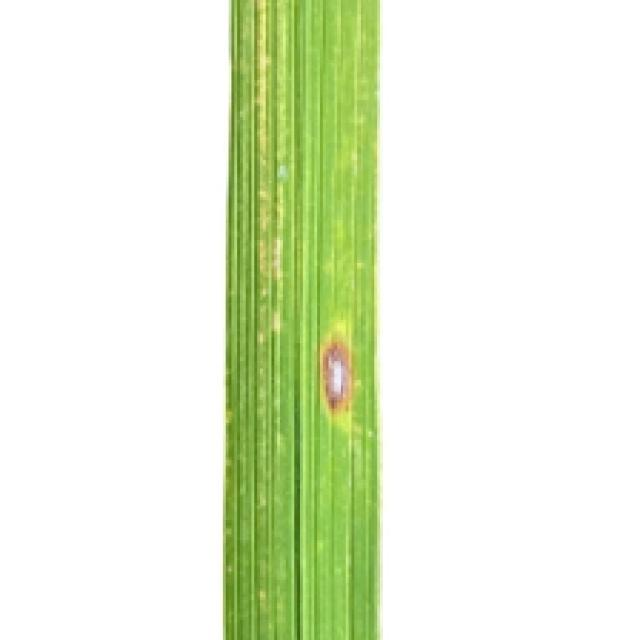Rice___Rice_Blast: (224, 0, 382, 637)
